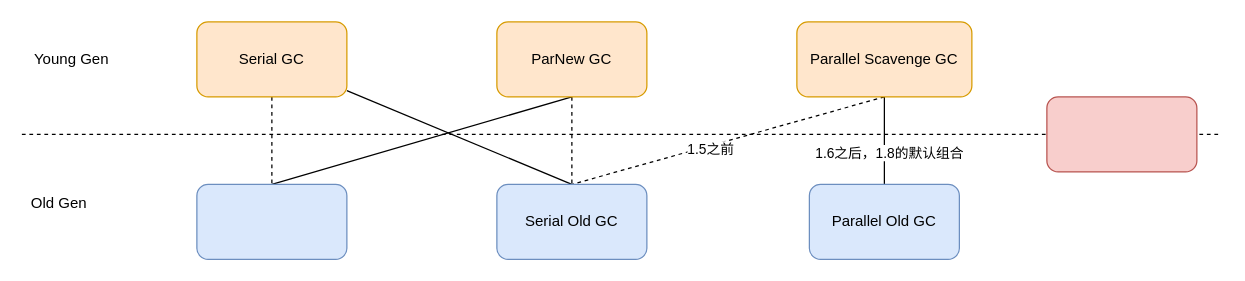
Some shapes in this 1245 by 281 pixel diagram are drawn without their labels. Each missing label, with the centre of its shape:
"CMS GC" goes at (x=271, y=221).
"G1 GC" goes at (x=1121, y=134).
